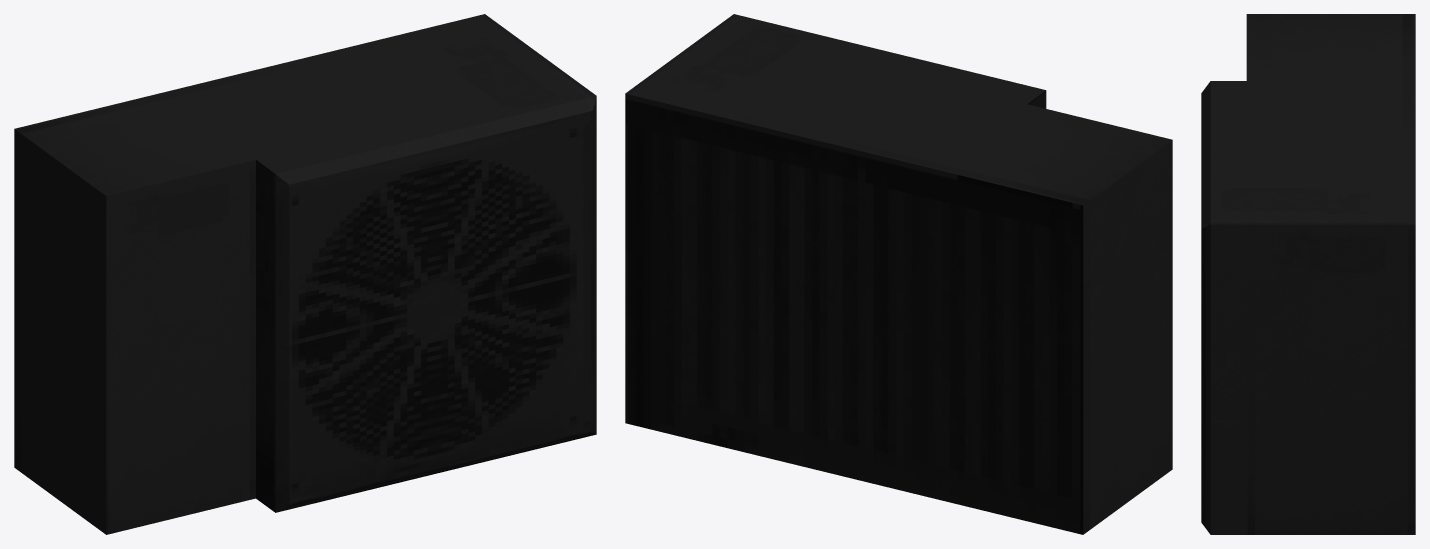
The model's file is airCon.fbx.
3 views of the same model, side by side, from view 1: azimuth 30°, elevation 25°; view 2: azimuth 150°, elevation 25°; view 3: azimuth 270°, elevation 25° (orthographic). The views are drawn at different scales.
Parts seen in each view (by area): view 1: airCon; view 2: airCon; view 3: airCon.
Part boxes in pixels (<box>): airCon: <box>14,14,596,534</box>; airCon: <box>625,14,1172,534</box>; airCon: <box>1201,14,1415,534</box>.
Size of the model in its own units: 0.231 by 0.5376 by 0.3698.
